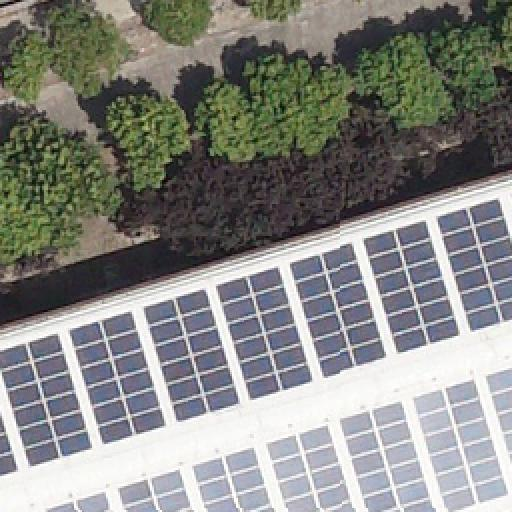solar-panel: (361, 219, 463, 357), (288, 242, 388, 378), (71, 307, 169, 445), (144, 289, 244, 423), (0, 331, 96, 469), (411, 377, 509, 511), (216, 265, 312, 399), (339, 400, 437, 512), (433, 196, 511, 332), (264, 424, 356, 512), (195, 448, 277, 512), (119, 472, 193, 512), (484, 367, 512, 465), (0, 403, 24, 477), (46, 489, 114, 511), (508, 193, 512, 199)
